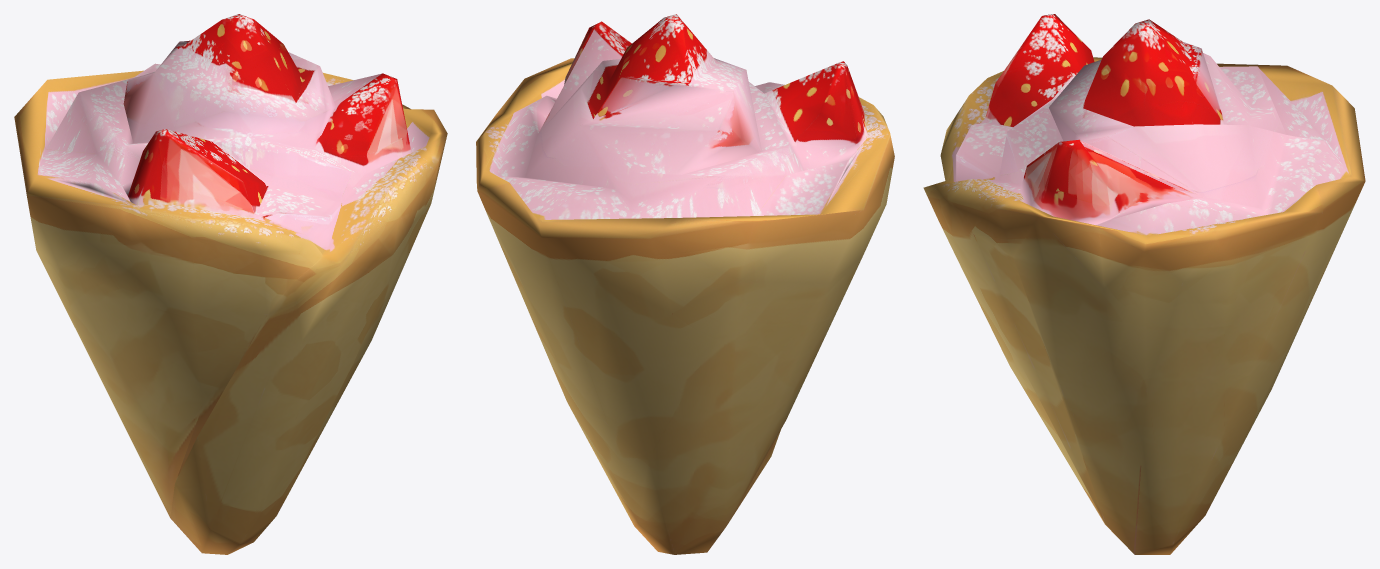
Rendered from source.fbx.
The picture shows the model from 3 angles, left to right: view 1: azimuth 30°, elevation 25°; view 2: azimuth 150°, elevation 25°; view 3: azimuth 270°, elevation 25°; orthographic projection.
Visible parts, largest first — view 1: Mesh_0; view 2: Mesh_0; view 3: Mesh_0.
Boxes of the visible parts, x1=… form: Mesh_0: x1=14, y1=14, x2=447, y2=554; Mesh_0: x1=476, y1=14, x2=894, y2=554; Mesh_0: x1=923, y1=14, x2=1365, y2=554.
Bounding box in the file's own units: 13.48 × 18 × 13.54.
Materials: 1 (1 with a texture image).
